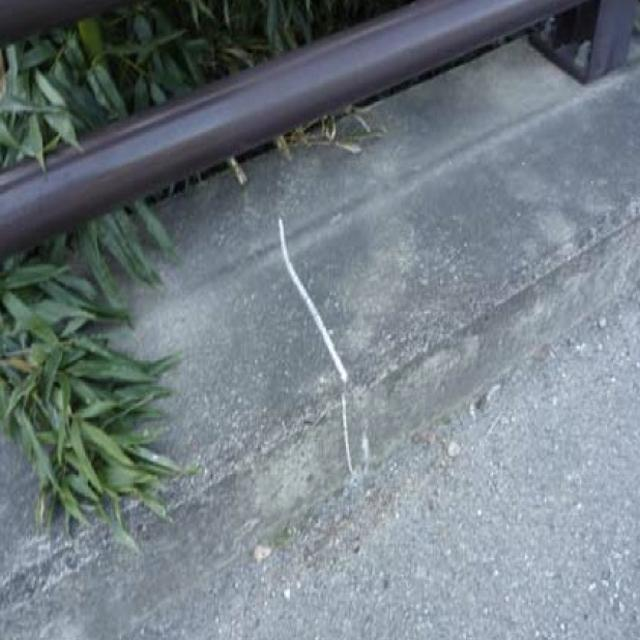crack: (273, 209, 357, 387)
